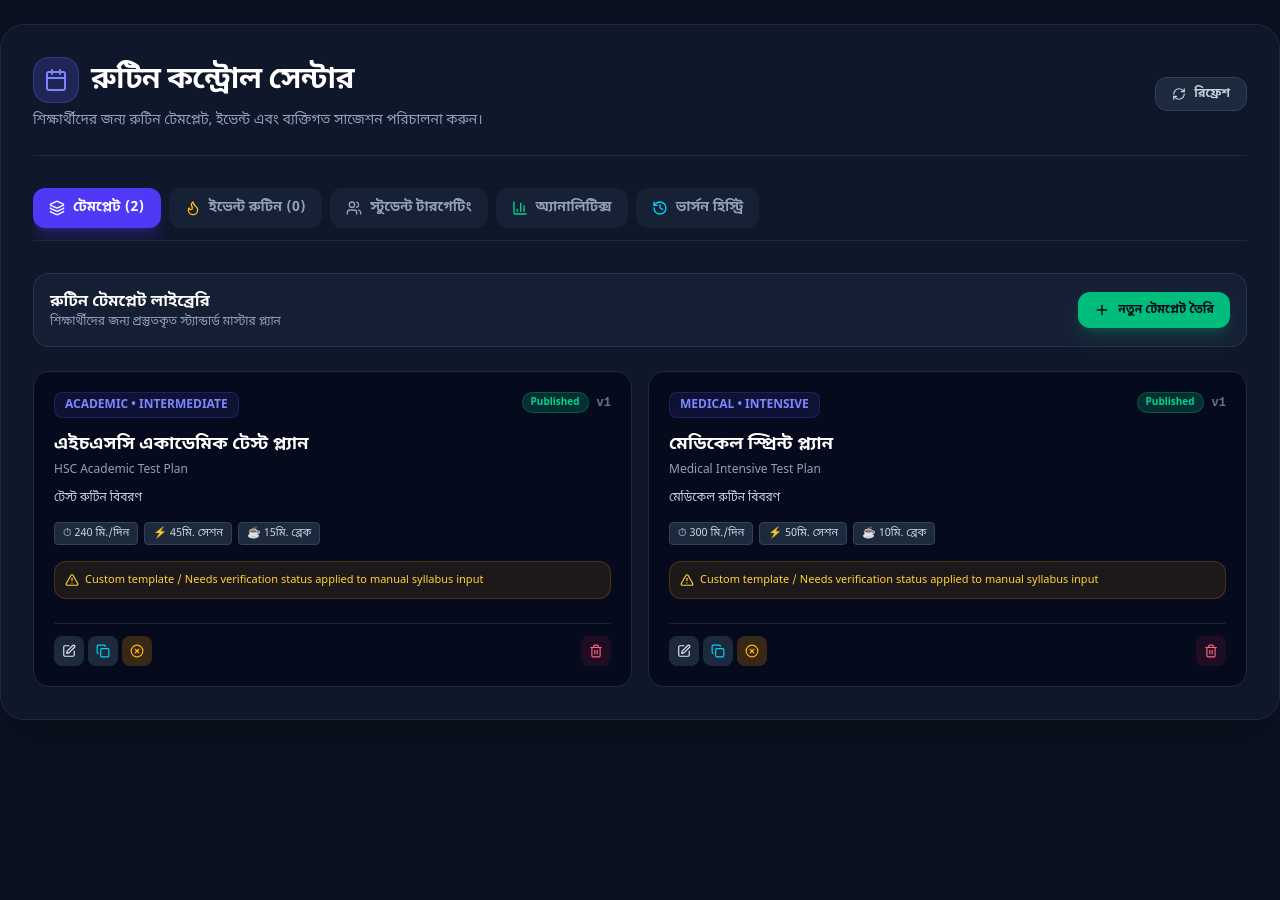
Test: Admin Routine Template Delete Flow › 2. Clicking "বাতিল করুন" dismisses the modal and does not delete the template
Expected: the heading "এইচএসসি একাডেমিক টেস্ট প্ল্যান" is shown, [54,432,309,456]
Click the 1st button named "টেমপ্লেট মুছুন". click: (596, 651)
box: [581,636,611,666]
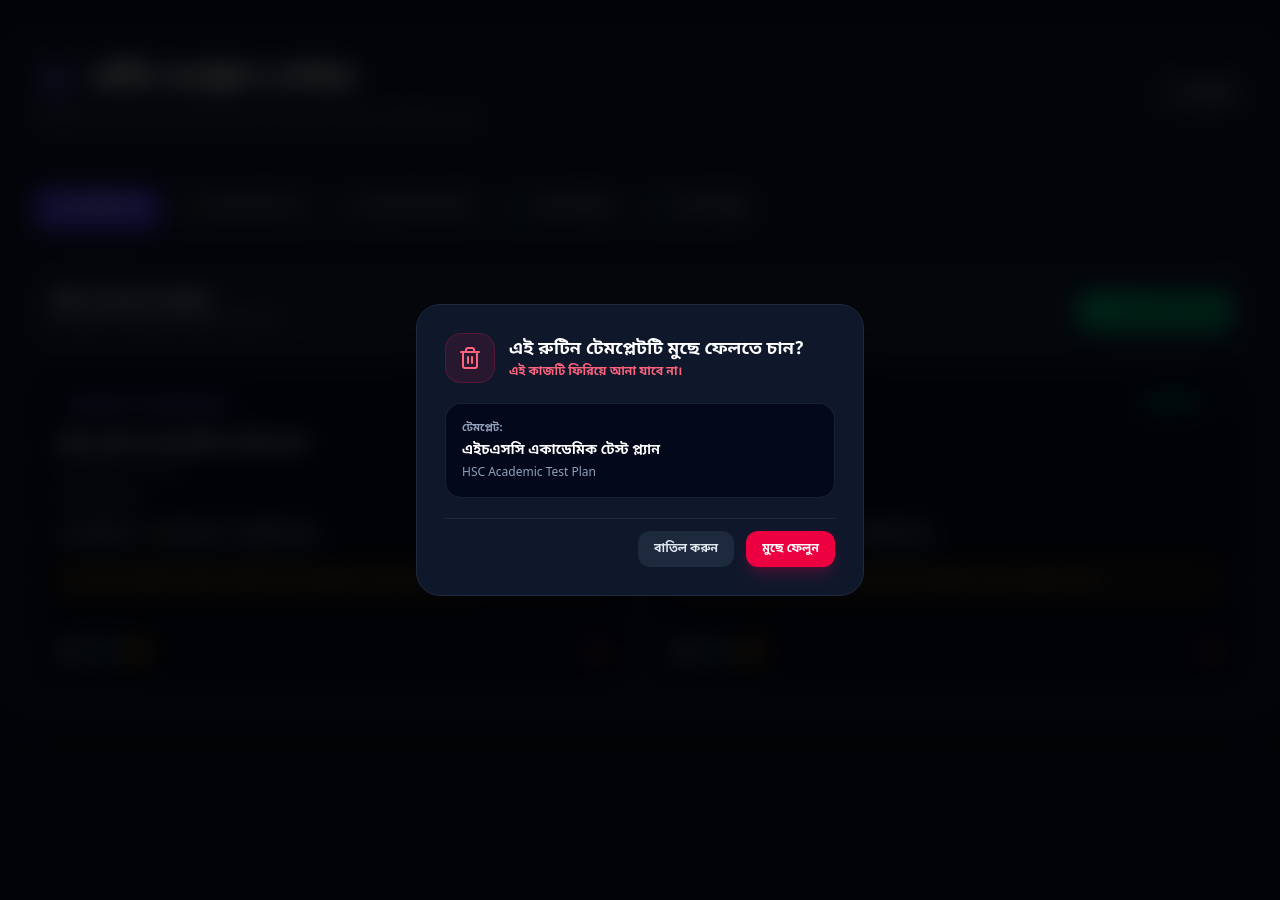
Expected: the heading "এই রুটিন টেমপ্লেটটি মুছে ফেলতে চান?" is shown, [509,337,804,362]
Click the button "বাতিল করুন". click: (686, 549)
box: [638,531,734,567]
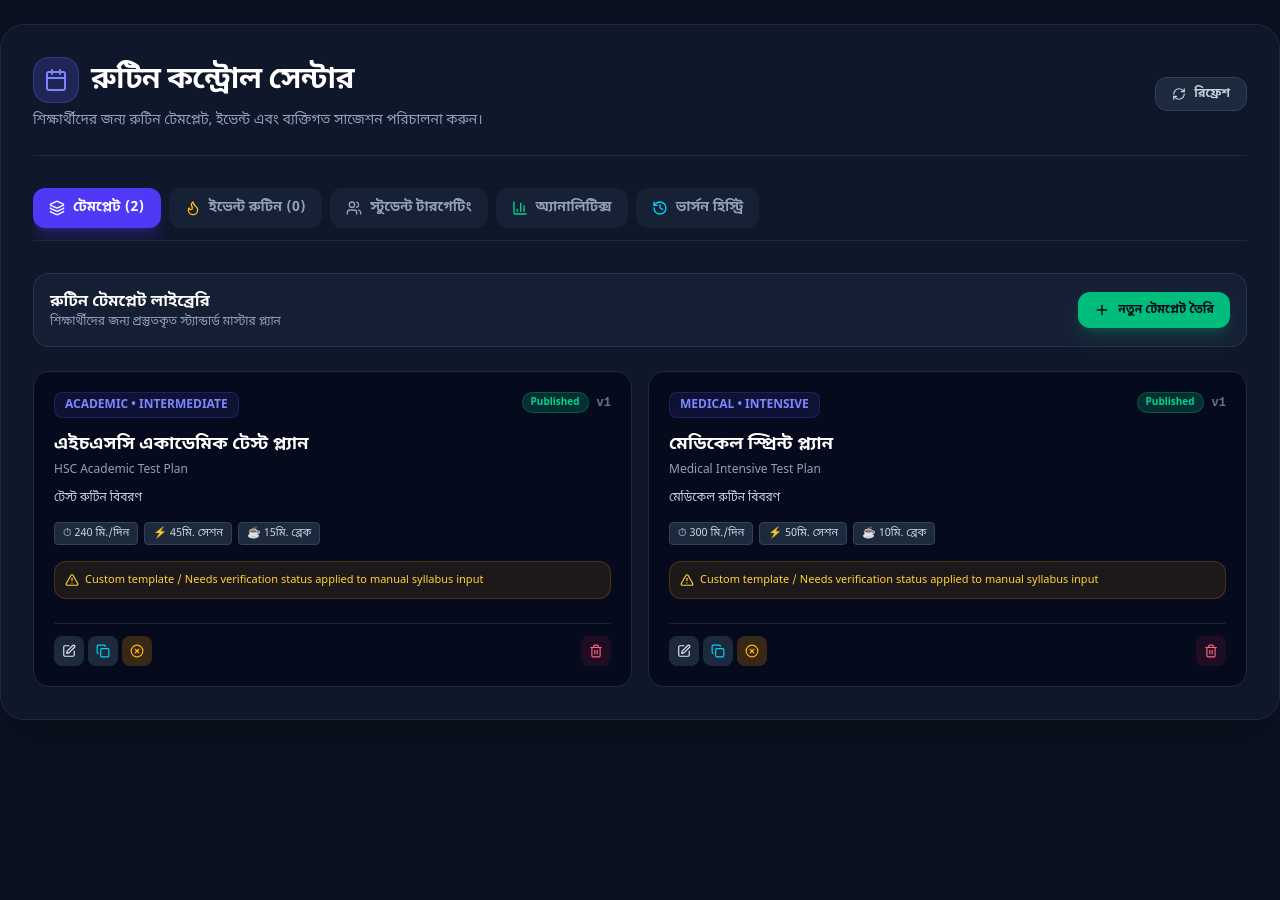
Expected: the heading "এইচএসসি একাডেমিক টেস্ট প্ল্যান" is shown, [54,432,309,456]
Expected: the heading "এই রুটিন টেমপ্লেটটি মুছে ফেলতে চান?" is gone
